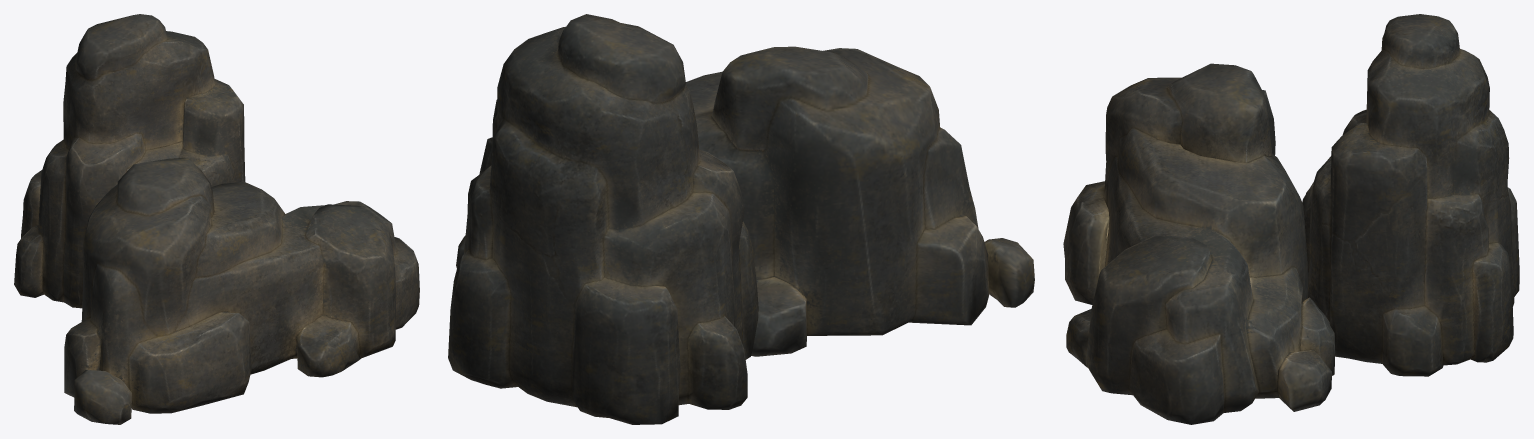
3 renders of one model, left to right at view 1: azimuth 30°, elevation 25°; view 2: azimuth 150°, elevation 25°; view 3: azimuth 270°, elevation 25°, orthographic. The views are drawn at different scales.
Parts seen in each view (by area): view 1: cliff2, cliff3; view 2: cliff3, cliff2; view 3: cliff2, cliff3.
Boxes of the visible parts, x1,y1,x2,y2 form: cliff2: (64, 158, 419, 424); cliff3: (14, 14, 245, 308); cliff3: (448, 14, 758, 424); cliff2: (456, 46, 1034, 356); cliff2: (1063, 63, 1334, 424); cliff3: (1302, 14, 1519, 376).
Bounding box in the file's own units: 2397 × 1585 × 2211.
Materials: 2 (2 with a texture image).
